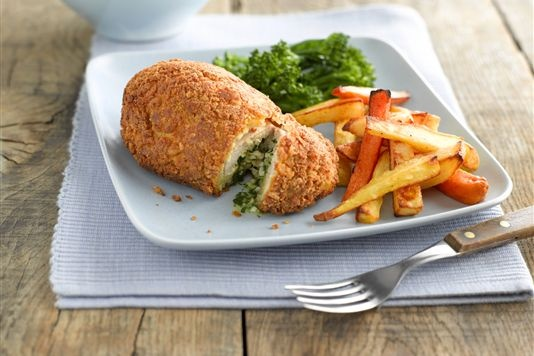background: (100, 18, 407, 123)
